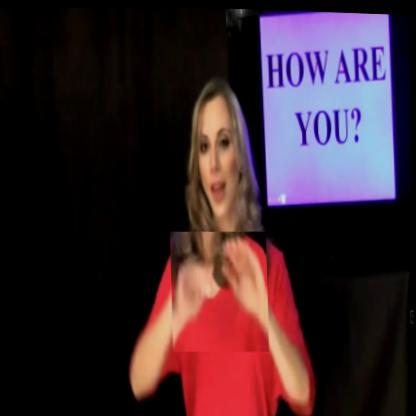HowAreYou: (169, 227, 270, 353)
